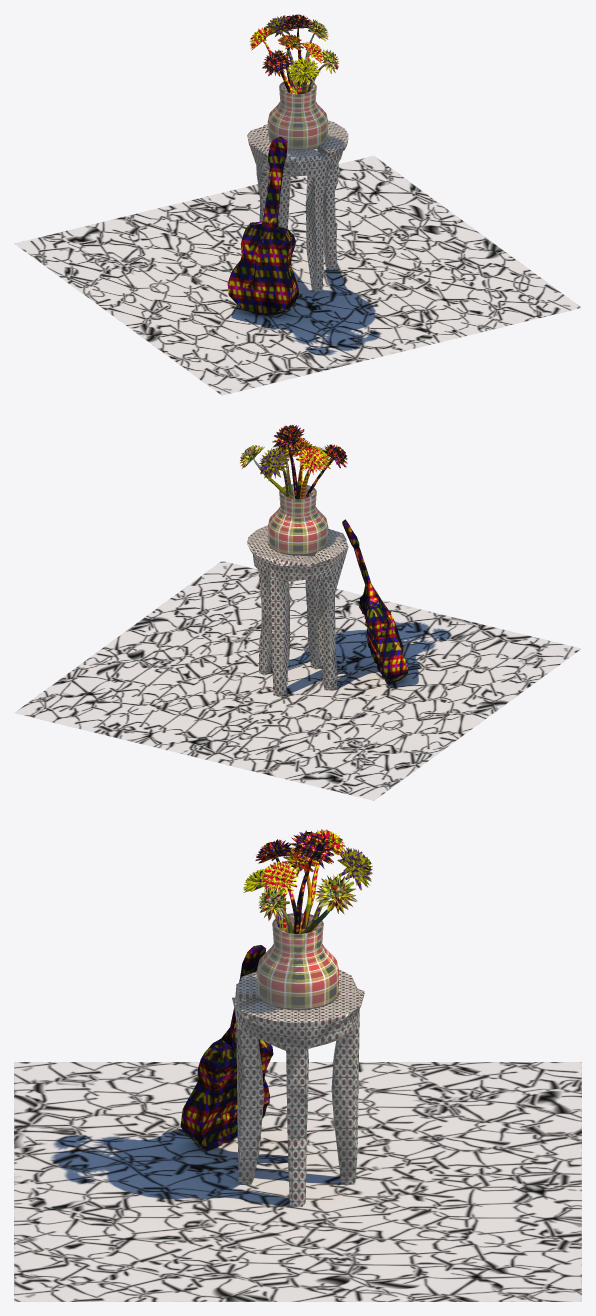
Rendered from linear-leather-still-life-guitar.glb.
3 views of the same model, one above another, from view 1: azimuth 30°, elevation 25°; view 2: azimuth 150°, elevation 25°; view 3: azimuth 270°, elevation 25° (orthographic). The views are drawn at different scales.
Visible parts, largest first — view 1: NiioStillLife_WithGuitar; view 2: NiioStillLife_WithGuitar; view 3: NiioStillLife_WithGuitar.
Part boxes in pixels (bbox=[...]): NiioStillLife_WithGuitar: bbox=[14, 14, 581, 395]; NiioStillLife_WithGuitar: bbox=[14, 424, 581, 800]; NiioStillLife_WithGuitar: bbox=[14, 829, 581, 1301].
Bounding box in the file's own units: 0.0154 × 0.0107 × 0.0154.
20 materials, 18 textured.
